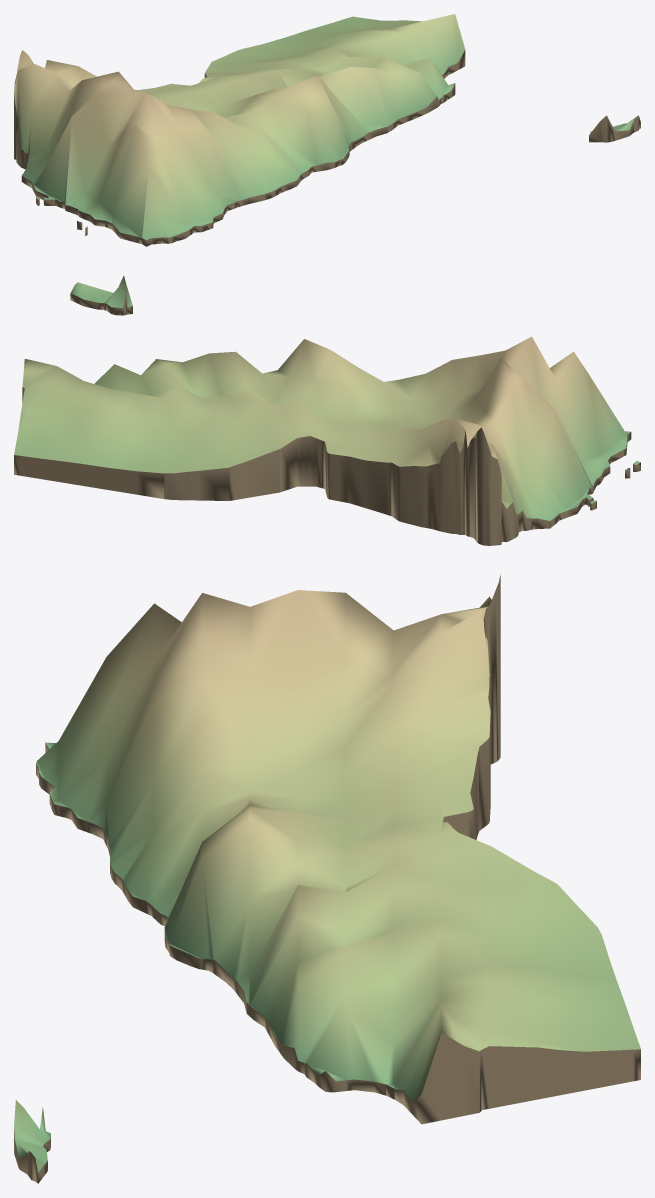
Rendered from YEM.glb.
3 views of the same model, one above another, from view 1: azimuth 30°, elevation 25°; view 2: azimuth 150°, elevation 25°; view 3: azimuth 270°, elevation 25° (orthographic). The views are drawn at different scales.
Visible parts, largest first — view 1: YEM; view 2: YEM; view 3: YEM.
Part boxes in pixels (bbox=[...]): YEM: bbox=[14, 14, 640, 246]; YEM: bbox=[14, 275, 640, 545]; YEM: bbox=[14, 574, 640, 1183].
Bounding box in the file's own units: 1.66 × 0.338 × 0.9505.
